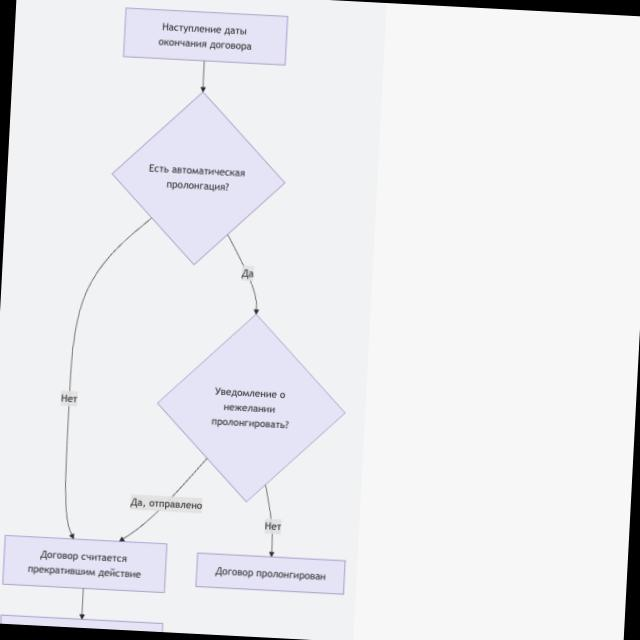arrow: (68, 219, 151, 390), (173, 459, 207, 497), (228, 235, 244, 267), (265, 486, 272, 519), (80, 589, 84, 619), (201, 62, 205, 92)
diamond: (159, 316, 343, 500), (113, 93, 283, 262)
rectangle: (124, 8, 287, 65), (3, 536, 167, 592), (196, 553, 345, 594)
text_region: (128, 495, 204, 513), (258, 519, 286, 533), (58, 390, 82, 406), (240, 268, 258, 280)
